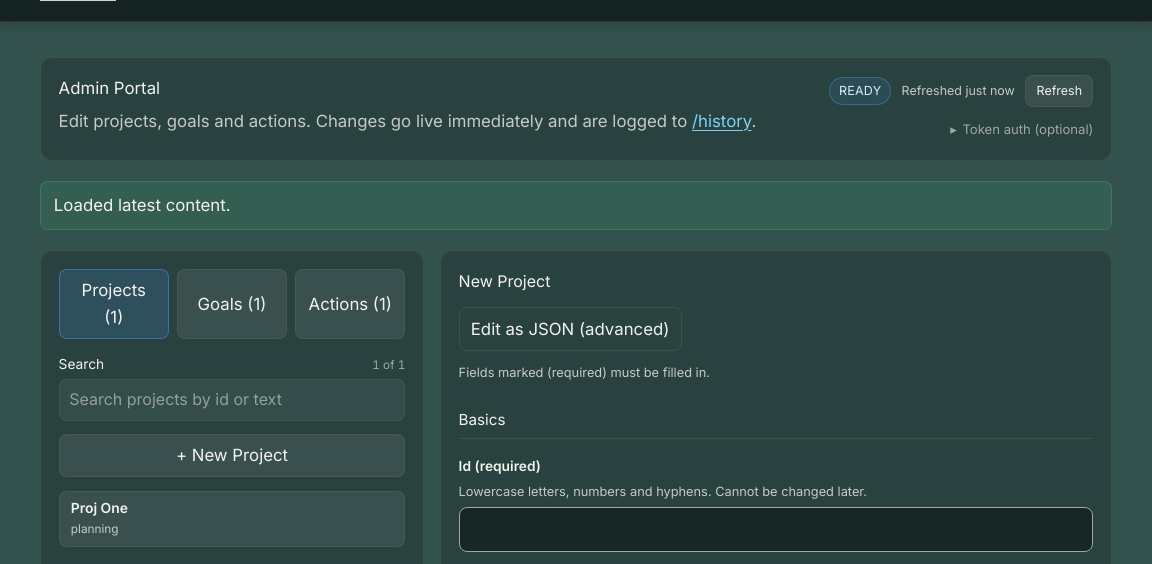
Test: saving › sends one request for a double click
Step 1. Click the tab "Goals (1)" → (232, 304), box [177,269,287,339]
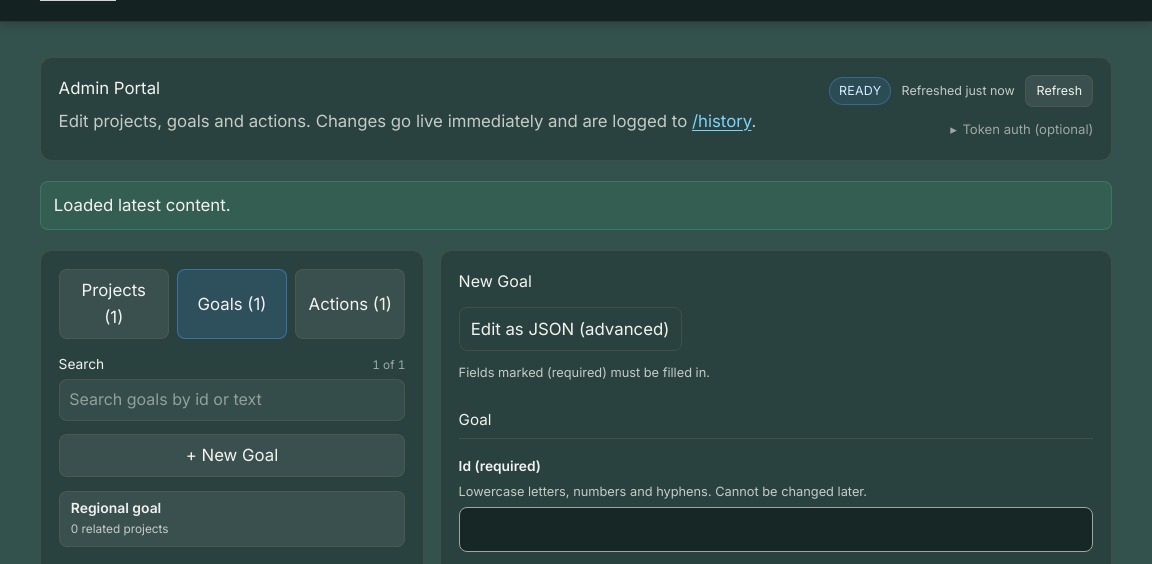
Step 2. Click the button "Regional goal 0 related projects" → (116, 508), box [59,491,405,547]
(page scrolled)
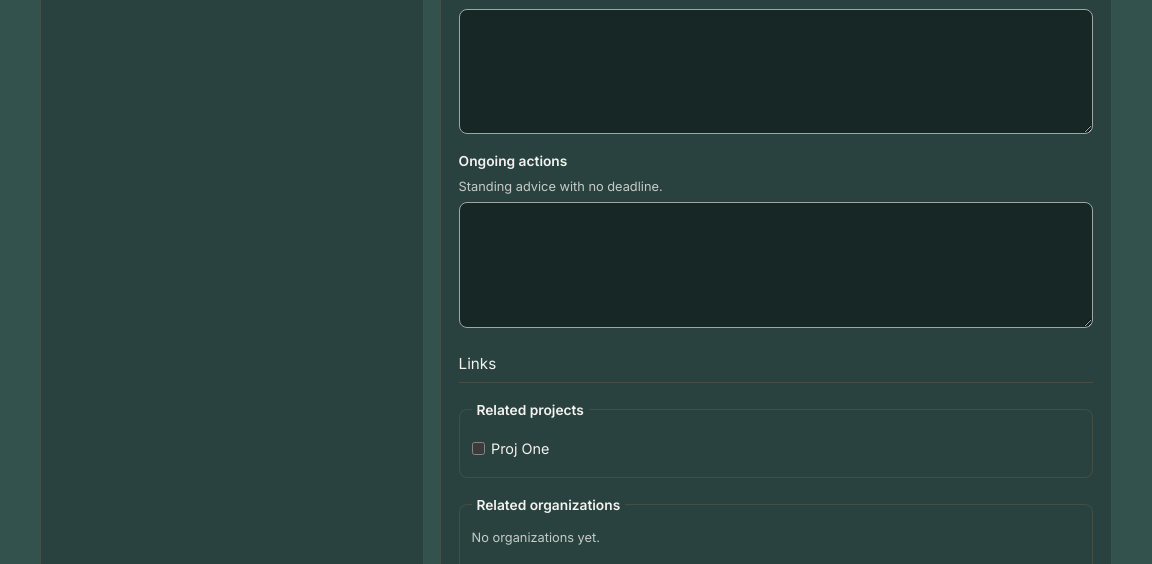
Step 3. Type "Mine" into the text box labelled "Ongoing actions" → (776, 265), box [459,202,1093,328]
(page scrolled)
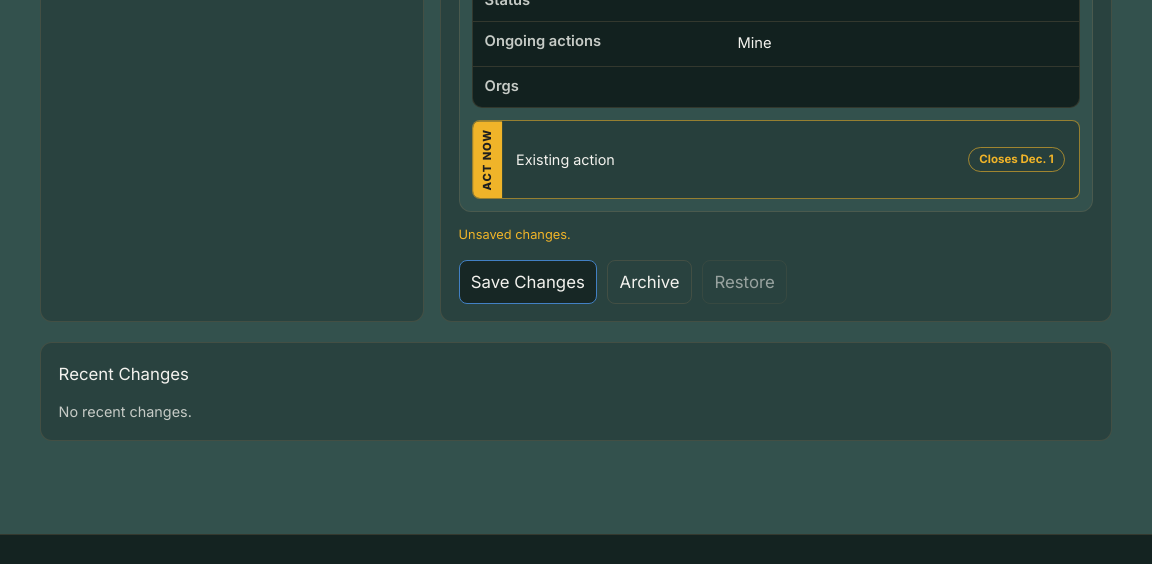
Step 4. Click the button "Save Changes" → (528, 282), box [459,260,597,304]
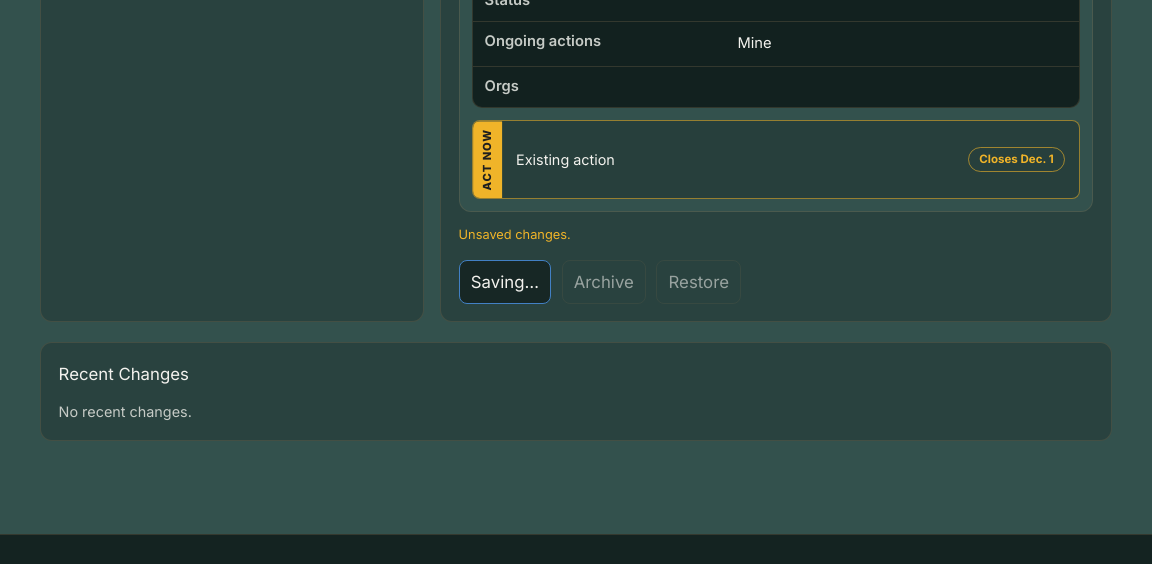
Step 5. Click the button named "Save Changes" → (505, 282), box [459,260,551,304]
(page scrolled)
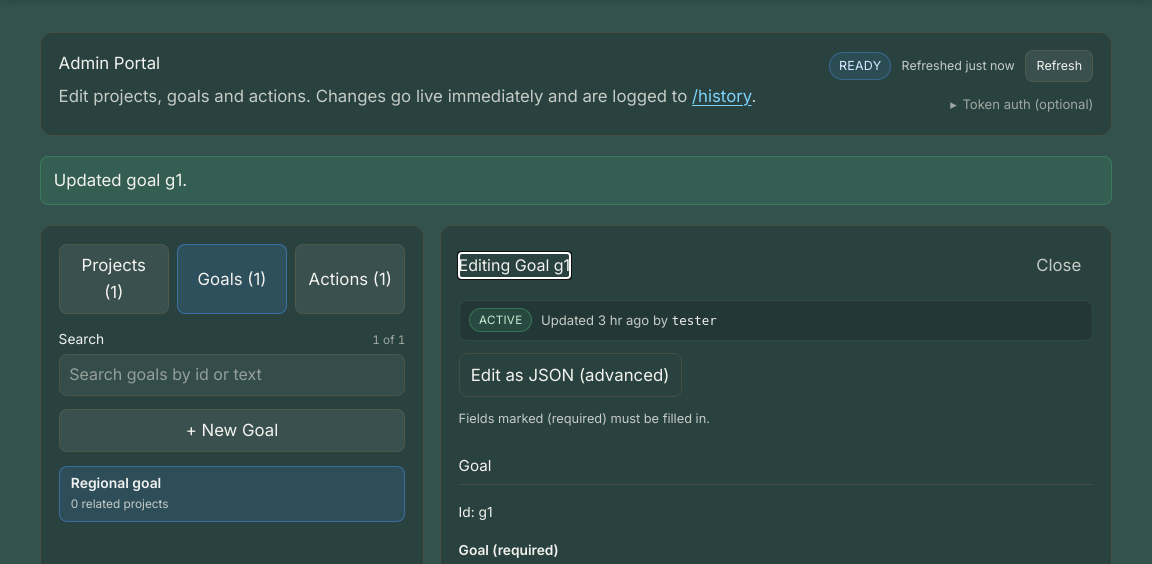
Result: the message reads "Updated goal g1." at [54,170,187,190]
